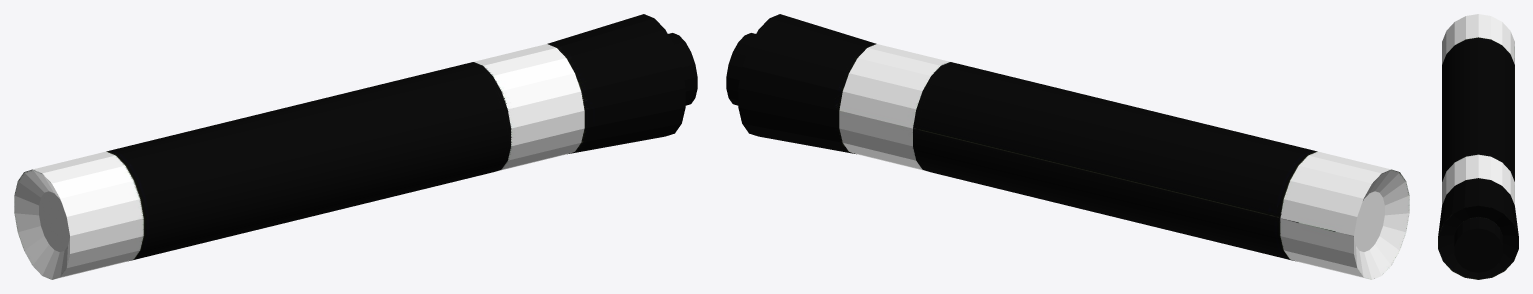
File: black marker.FBX
3 views of the same model, side by side, from view 1: azimuth 30°, elevation 25°; view 2: azimuth 150°, elevation 25°; view 3: azimuth 270°, elevation 25° (orthographic). The views are drawn at different scales.
Visible parts, largest first — view 1: Cylinder002; view 2: Cylinder002; view 3: Cylinder002.
Boxes of the visible parts, x1=… form: Cylinder002: x1=14, y1=14, x2=697, y2=279; Cylinder002: x1=726, y1=14, x2=1409, y2=279; Cylinder002: x1=1438, y1=14, x2=1518, y2=279.
Size of the model in its own units: 26 by 4.44 by 4.37.
Materials: 1 (1 with a texture image).
